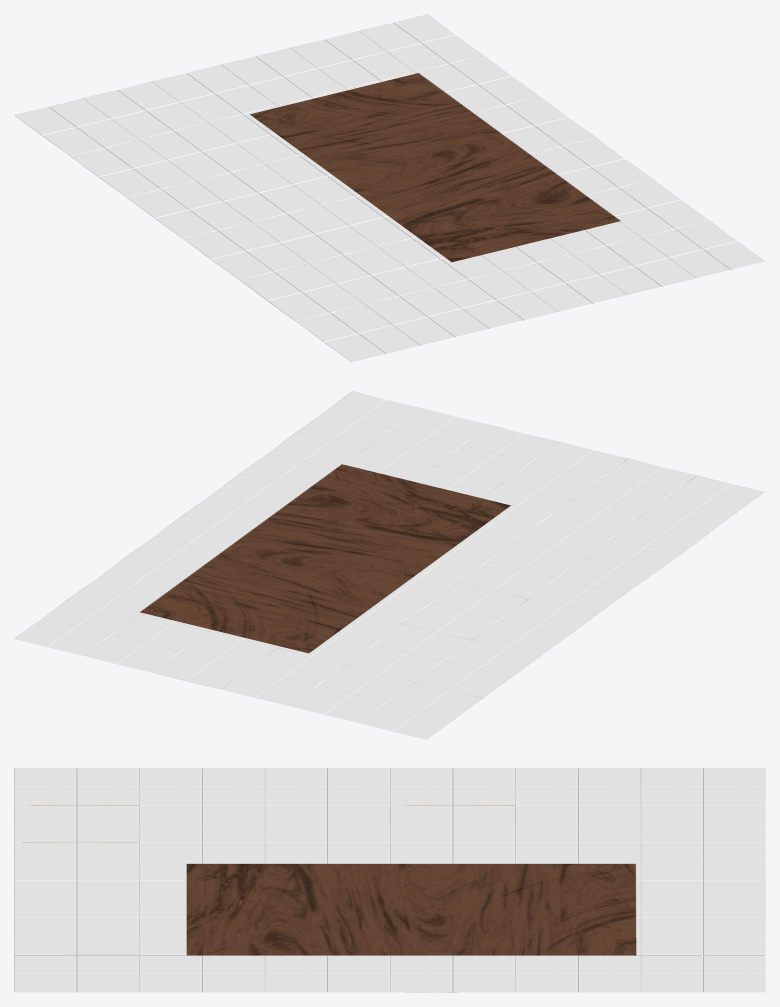
Rendered from floor.gltf.
3 views of the same model, one above another, from view 1: azimuth 30°, elevation 25°; view 2: azimuth 150°, elevation 25°; view 3: azimuth 270°, elevation 25° (orthographic). The views are drawn at different scales.
Visible parts, largest first — view 1: floor.001; view 2: floor.001; view 3: floor.001.
Part boxes in pixels (box(x1,y1,x2,y2)): floor.001: box(14, 14, 765, 362); floor.001: box(14, 391, 765, 739); floor.001: box(14, 768, 765, 992).
Bounding box in the file's own units: 3.96 × 0.00619 × 5.6.
1 material, 1 textured.
